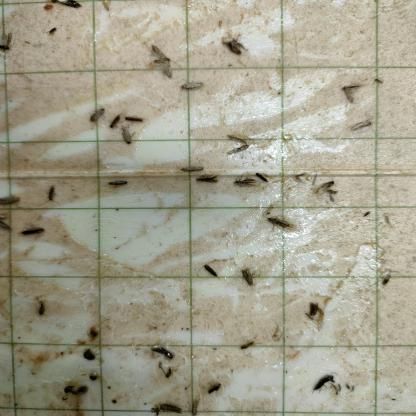prays_oleae: (262, 205, 297, 235), (225, 127, 256, 160), (150, 40, 174, 80), (312, 174, 340, 206), (235, 328, 262, 356), (16, 219, 50, 241), (180, 70, 207, 97), (220, 34, 248, 59), (204, 368, 228, 396), (341, 75, 362, 107), (102, 172, 132, 193), (39, 182, 63, 206), (231, 170, 257, 191), (0, 21, 12, 66), (88, 102, 108, 128), (238, 262, 257, 289), (0, 181, 19, 208), (0, 212, 16, 244), (116, 125, 135, 150), (200, 257, 219, 281), (378, 268, 391, 294), (375, 70, 386, 98), (347, 123, 377, 132), (109, 109, 122, 127)
